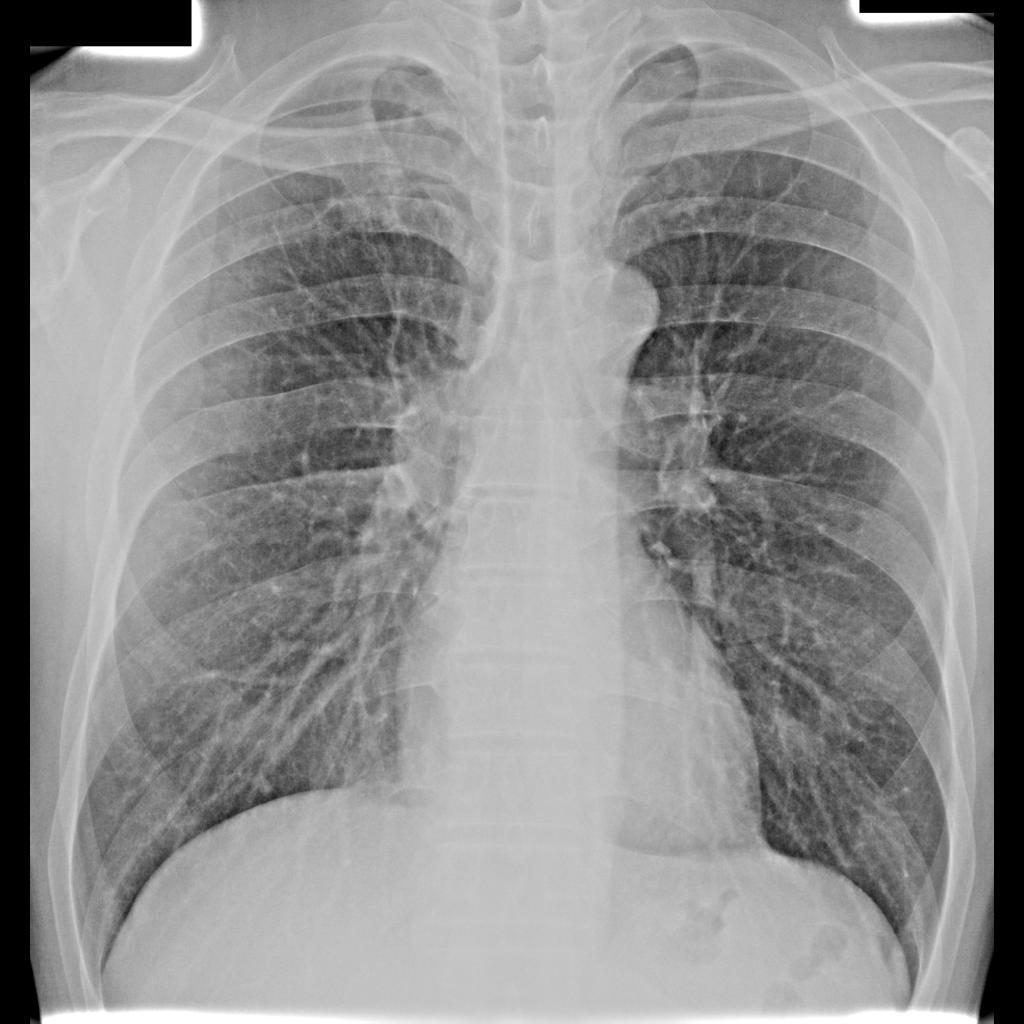Nodule: (230, 237, 267, 274)
